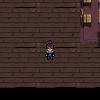Obstacle: (77, 7, 94, 28)
Victim: (44, 39, 56, 61)
